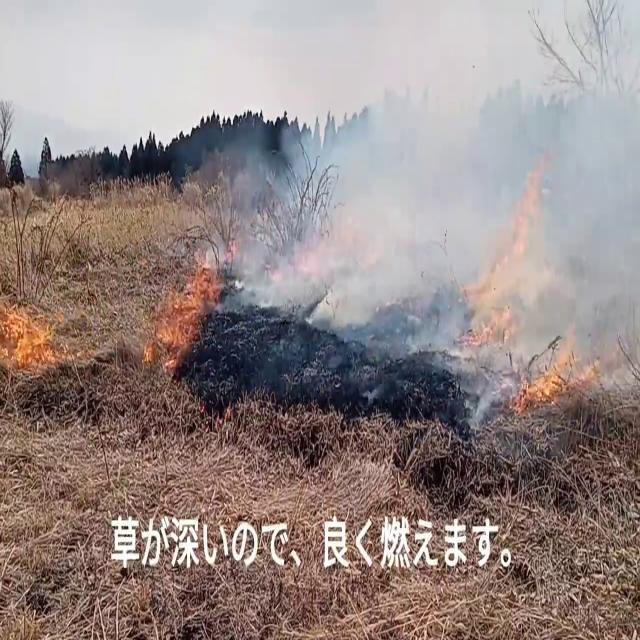Fire: (146, 250, 222, 369)
Smoke: (232, 2, 640, 420)
